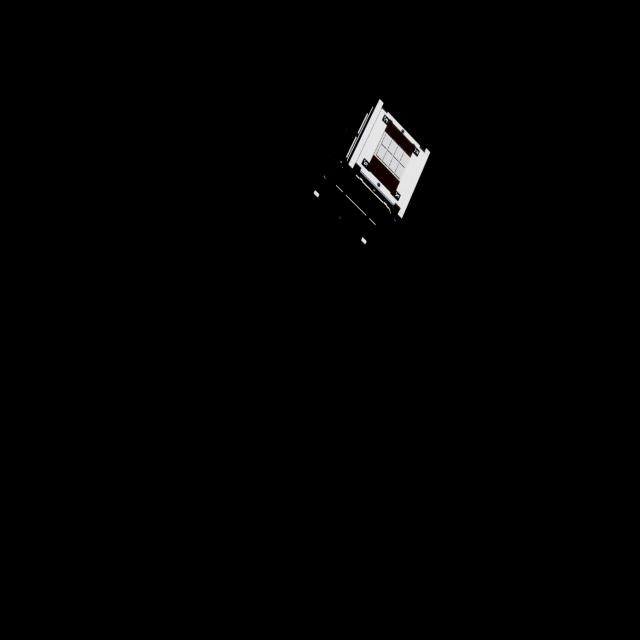satellite: (311, 91, 442, 244)
